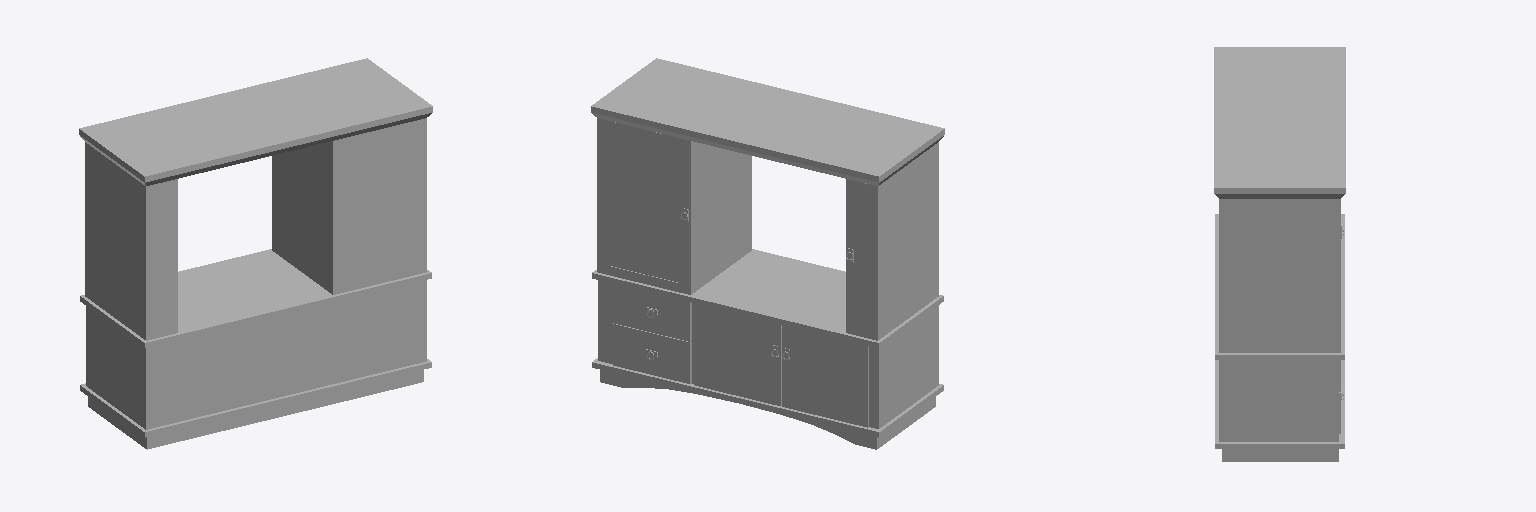
File: tv_cabinet.obj
3 renders of one model, left to right at view 1: azimuth 30°, elevation 25°; view 2: azimuth 150°, elevation 25°; view 3: azimuth 270°, elevation 25°, orthographic.
Parts seen in each view (by area): view 1: mesh; view 2: mesh; view 3: mesh.
Boxes of the visible parts, <box> form: mesh: <box>79,58,432,449</box>; mesh: <box>591,58,944,449</box>; mesh: <box>1214,47,1345,461</box>.
Size of the model in its own units: 117 by 107 by 46.04.